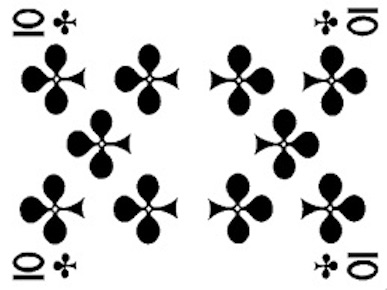TenOfClubs: (9, 1, 381, 286)
